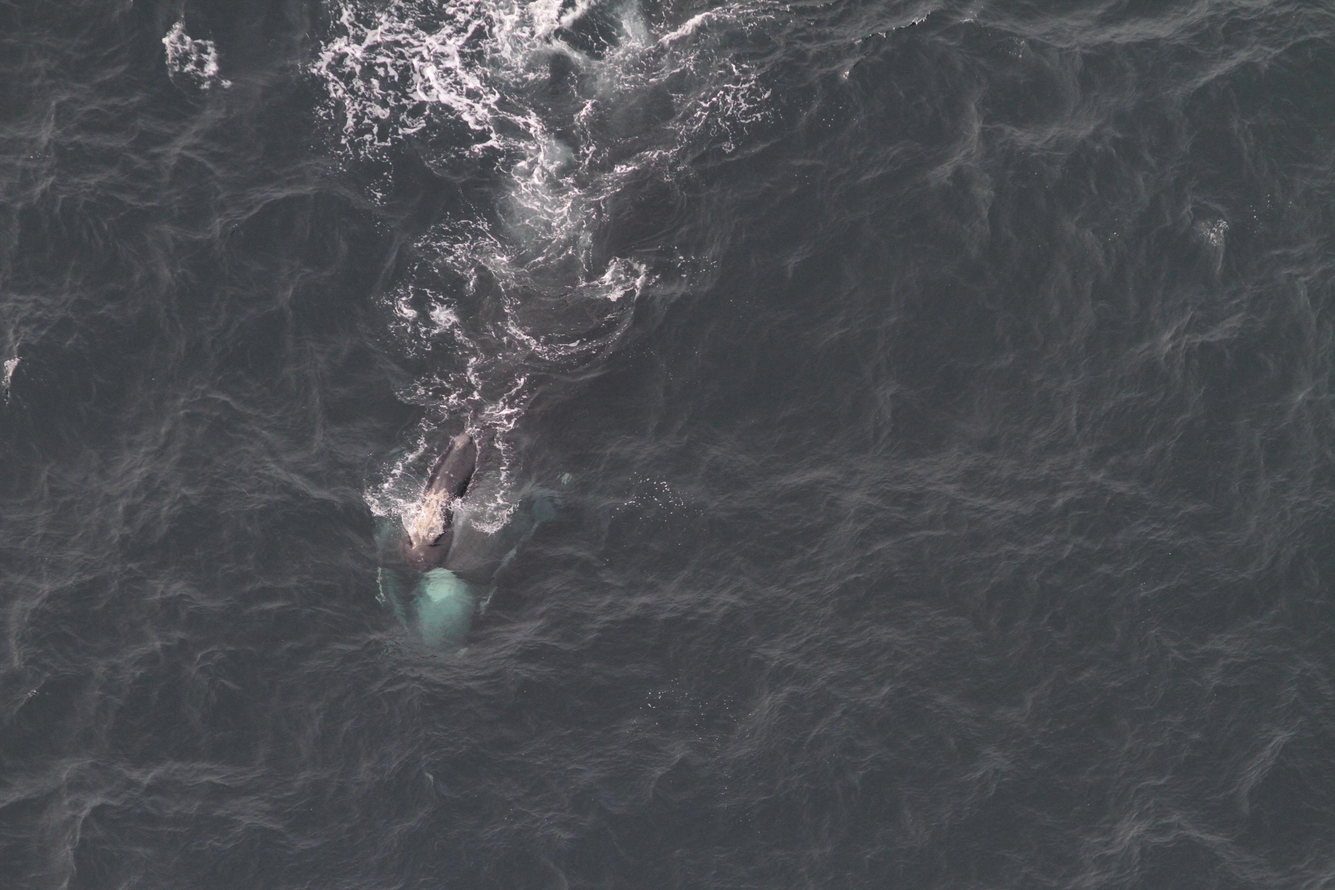whale: (369, 234, 669, 677)
